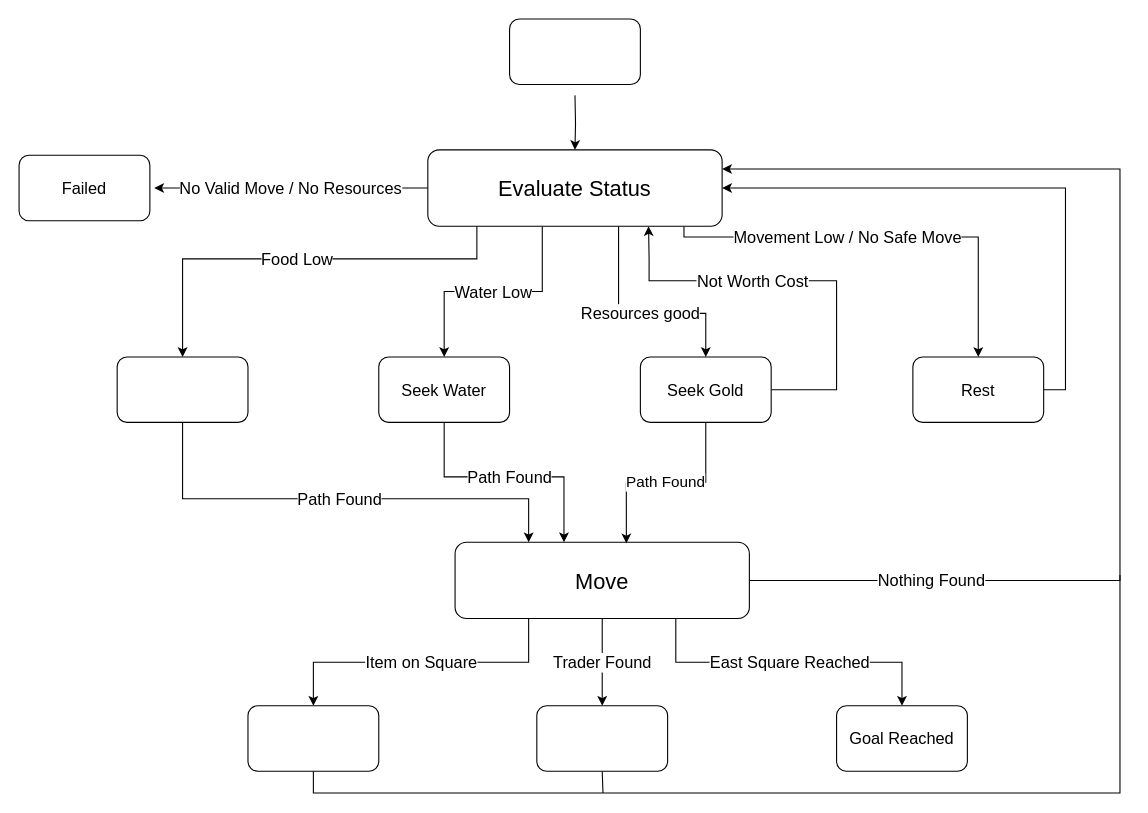
The diagram is 1148 pixels wide and 813 high, and some of its shapes have lost their labels. Each missing label, with the centre of its shape:
"Collect Item" goes at pixel 313 738.
"Seek Food" goes at pixel 182 389.
"Start" goes at pixel 574 51.
"Trade" goes at pixel 602 738.
